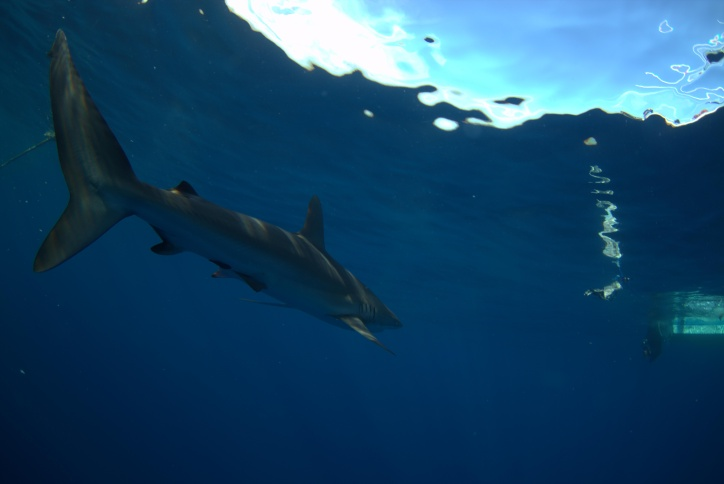Sedoso: (23, 20, 403, 364)
